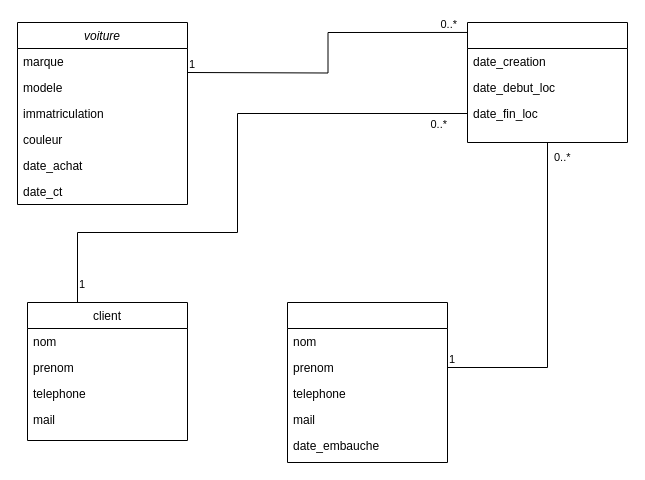
This 645x480 diagram has some shape labels left out. The box of each missing label's shape, as (x1, y1, x2, y2) in pixels:
contrat: (466, 22, 628, 142)
employé: (286, 302, 448, 462)
